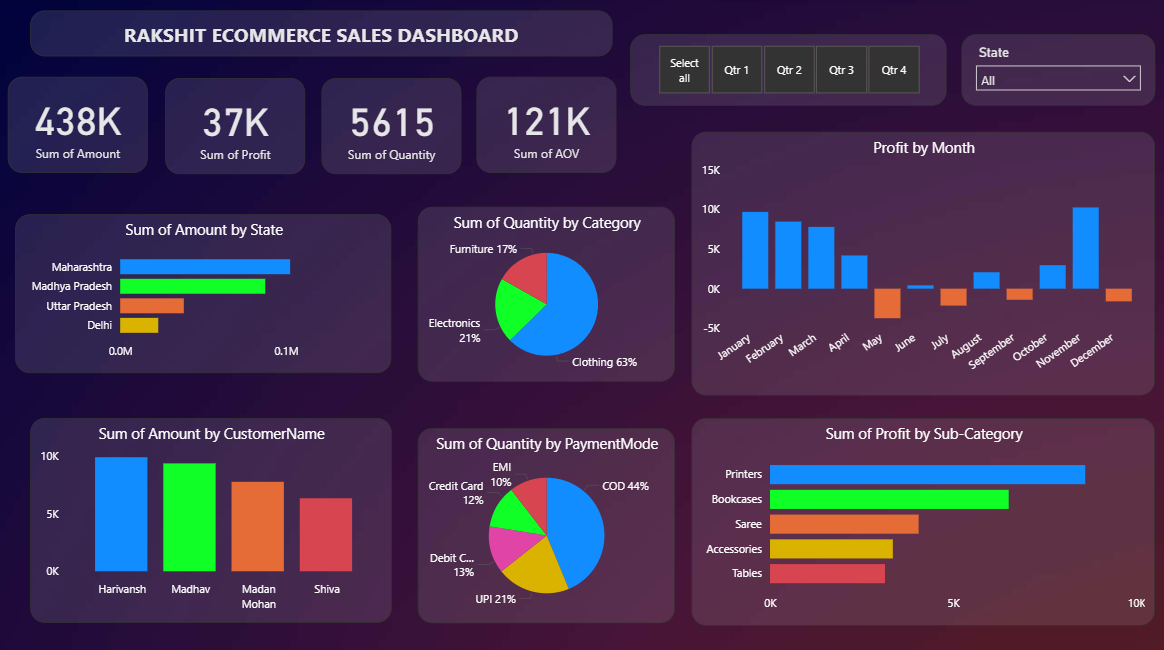

This screenshot's page, from the dashboard's own definition file:
{"tool":"powerbi","page":{"name":"Page 1","canvas":[1280,720],"ordinal":0},"visuals":[{"type":"textbox","box":[34.3,13.7,639.5,50.8],"z":0},{"type":"columnChart","title":"Profit by Month","fields":{"Y":["Details.Profit"],"Category":["Orders.Order Date.Variation.Date Hierarchy.Month"]},"box":[760.2,146.8,509.1,289.5],"z":1000},{"type":"barChart","fields":{"Category":["Details.Sub-Category"],"Y":["Details.Profit"]},"box":[760.2,461.1,509.1,227.8],"z":2000},{"type":"donutChart","fields":{"Category":["Details.Category"],"Y":["Details.Quantity"]},"box":[459.7,229.2,282.7,192.1],"z":3000},{"type":"donutChart","fields":{"Category":["Details.PaymentMode"],"Y":["Details.Quantity"]},"box":[459.7,472,282.7,214.1],"z":4000},{"type":"card","fields":{"Values":["Details.Amount"]},"box":[9.6,86.4,153.7,105.7],"z":5000},{"type":"card","fields":{"Values":["Details.Profit"]},"box":[182.5,87.8,153.7,105.7],"z":6000},{"type":"card","fields":{"Values":["Details.Quantity"]},"box":[354,87.8,153.7,105.7],"z":7000},{"type":"card","fields":{"Values":["Details.AOV"]},"box":[524.2,86.4,153.7,105.7],"z":8000},{"type":"barChart","fields":{"Y":["Details.Amount"],"Category":["Orders.State"]},"box":[17.8,237.4,413,174.3],"z":9000},{"type":"columnChart","fields":{"Category":["Orders.CustomerName"],"Y":["Details.Amount"]},"box":[34.3,461.1,396.6,225],"z":10000},{"type":"slicer","fields":{"Values":["Orders.State"]},"box":[1056.6,39.8,212.7,78.2],"z":11000},{"type":"slicer","fields":{"Values":["Orders.Order Date.Variation.Date Hierarchy.Quarter"]},"box":[693,39.8,347.2,78.2],"z":12000}]}

Visuals, with their boxes in screenshot pixels (x1, y1, x2, y2), scaled from the page's 1280x720 canvas onto the 1164x650 screenshot:
textbox: bbox=[31, 12, 613, 58]
"Profit by Month" columnChart: bbox=[691, 133, 1154, 394]
barChart - Details.Sub-Category x Details.Profit: bbox=[691, 416, 1154, 622]
donutChart - Details.Category x Details.Quantity: bbox=[418, 207, 675, 380]
donutChart - Details.PaymentMode x Details.Quantity: bbox=[418, 426, 675, 619]
card - Details.Amount: bbox=[9, 78, 149, 173]
card - Details.Profit: bbox=[166, 79, 306, 175]
card - Details.Quantity: bbox=[322, 79, 462, 175]
card - Details.AOV: bbox=[477, 78, 616, 173]
barChart - Details.Amount x Orders.State: bbox=[16, 214, 392, 372]
columnChart - Orders.CustomerName x Details.Amount: bbox=[31, 416, 392, 619]
slicer - Orders.State: bbox=[961, 36, 1154, 107]
slicer - Orders.Order Date.Variation.Date Hierarchy.Quarter: bbox=[630, 36, 946, 107]
